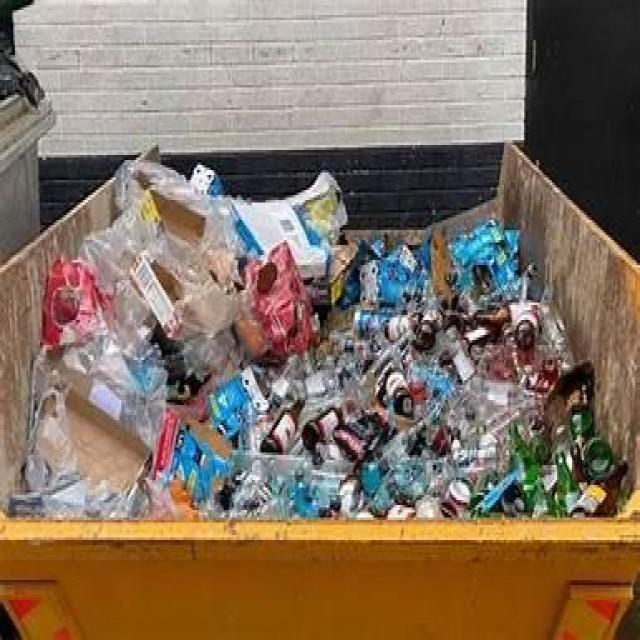Garbage: (1, 140, 640, 524)
Glass_bottle: (195, 221, 628, 518)
Plastic_Bag: (34, 160, 241, 450)
